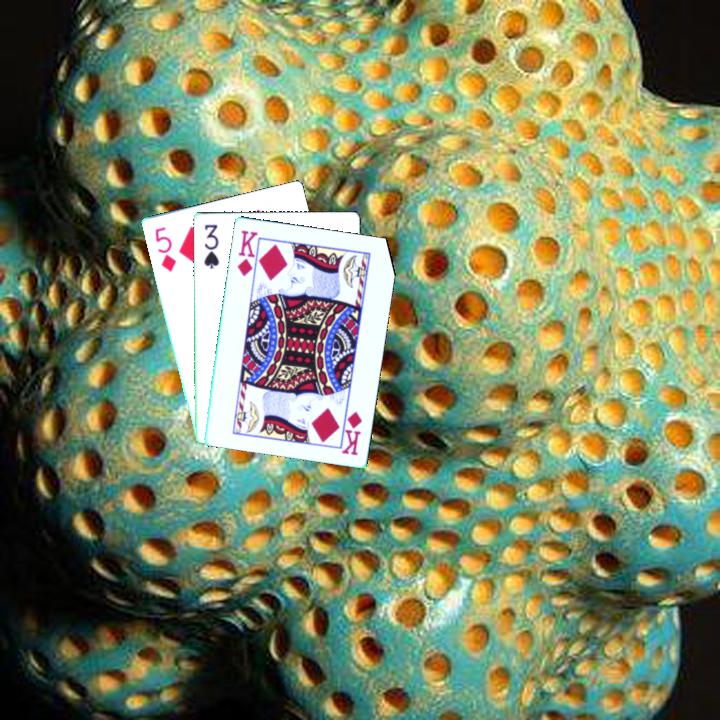3s: (200, 221, 222, 271)
5d: (151, 223, 179, 275)
Kd: (234, 226, 262, 281), (338, 407, 365, 458)
